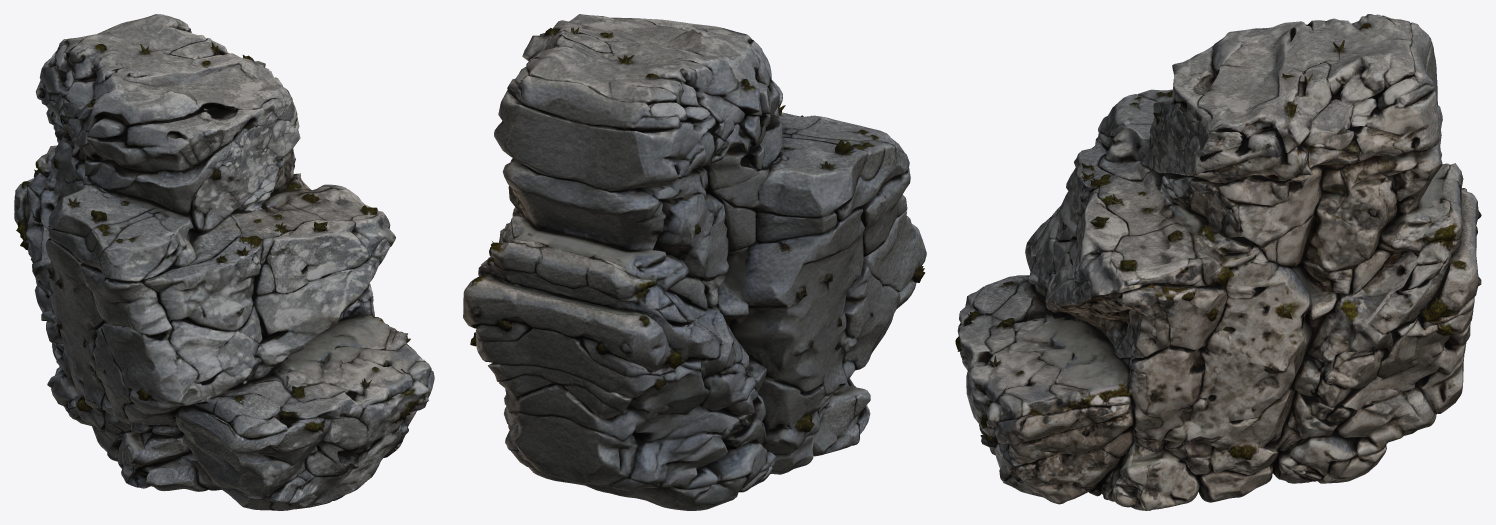
File: rock.glb
3 views of the same model, side by side, from view 1: azimuth 30°, elevation 25°; view 2: azimuth 150°, elevation 25°; view 3: azimuth 270°, elevation 25° (orthographic). The views are drawn at different scales.
Parts seen in each view (by area): view 1: tripo_node_00cef5b3-9a37-4f7a-be96-567bbf1d1adc; view 2: tripo_node_00cef5b3-9a37-4f7a-be96-567bbf1d1adc; view 3: tripo_node_00cef5b3-9a37-4f7a-be96-567bbf1d1adc.
Boxes of the visible parts, box(x1,y1,x2,y2) form: tripo_node_00cef5b3-9a37-4f7a-be96-567bbf1d1adc: box(14, 14, 434, 510); tripo_node_00cef5b3-9a37-4f7a-be96-567bbf1d1adc: box(463, 14, 926, 510); tripo_node_00cef5b3-9a37-4f7a-be96-567bbf1d1adc: box(955, 14, 1481, 510).
Size of the model in its own units: 0.4966 by 0.6 by 0.6799.
1 material, 1 textured.
